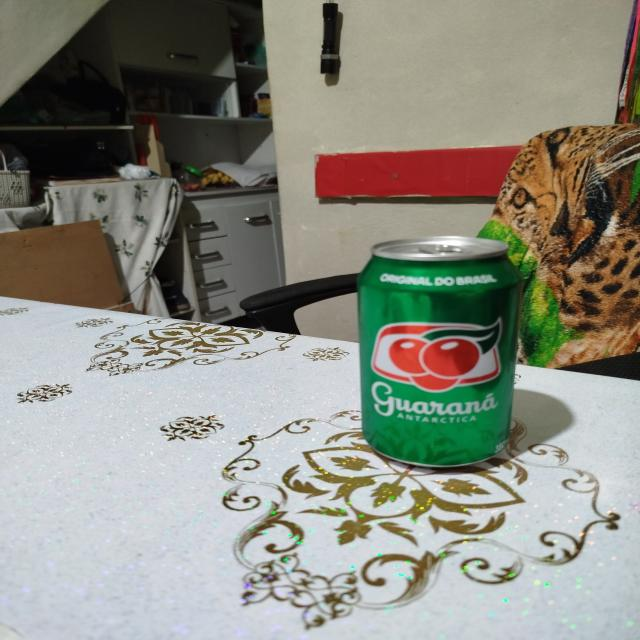Guarana: (358, 235, 527, 470)
